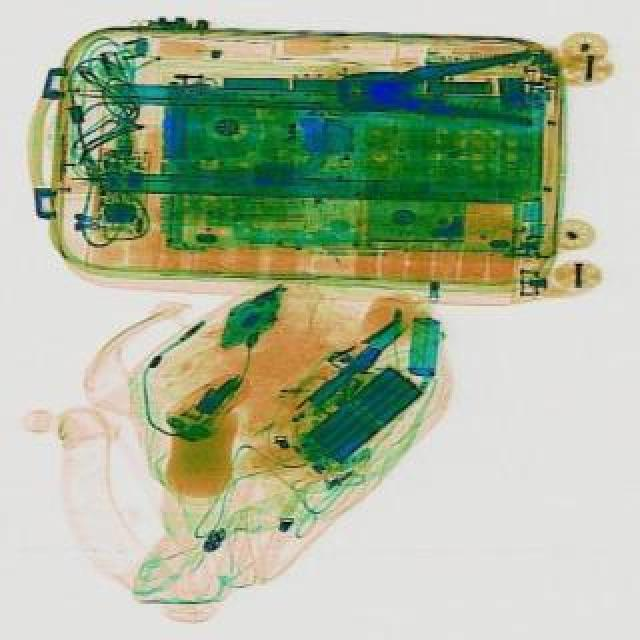wrench: (334, 54, 530, 134)
